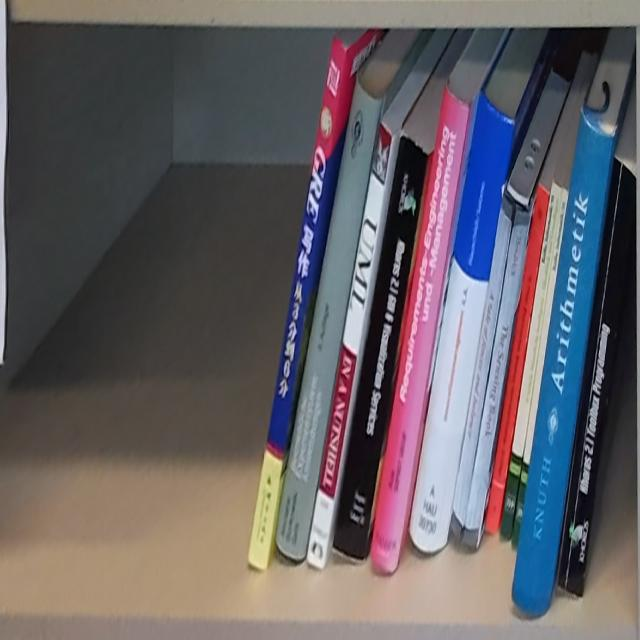Book Spine: (245, 36, 355, 574), (510, 108, 619, 626), (276, 69, 384, 562), (369, 81, 472, 575), (409, 95, 515, 555), (333, 131, 426, 561), (306, 114, 393, 573), (554, 154, 638, 607), (462, 208, 528, 554), (451, 195, 515, 549), (485, 186, 549, 539), (501, 176, 562, 540), (512, 189, 567, 555)
